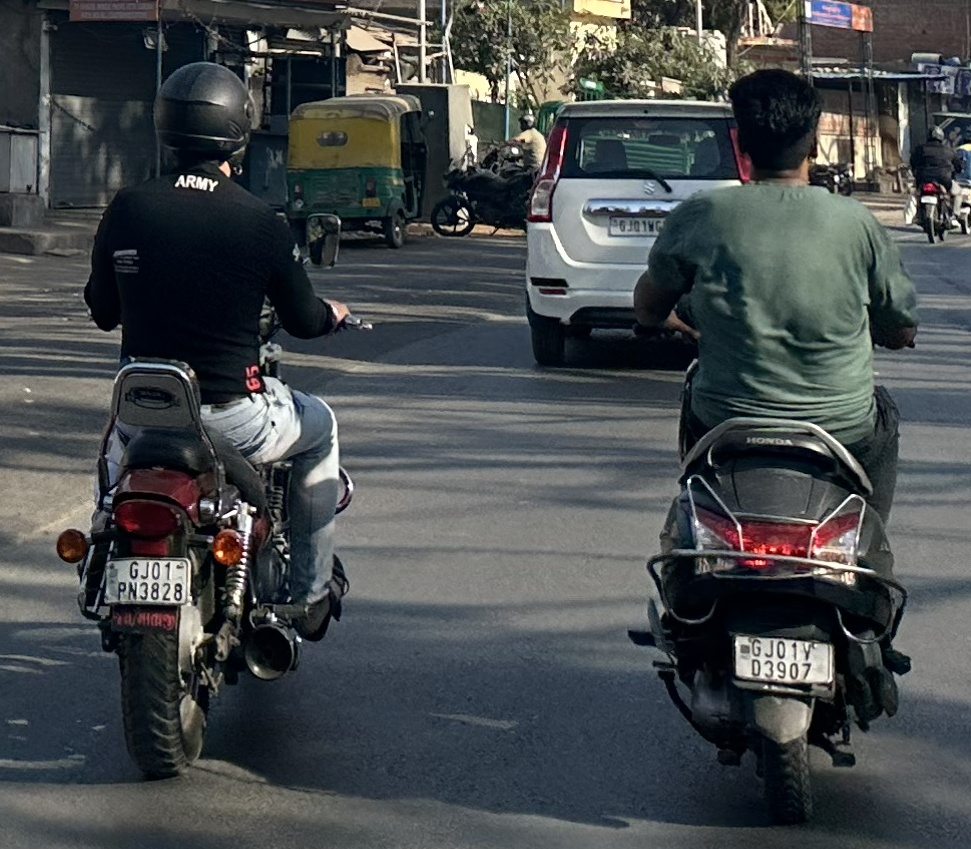BikeWithRider: (597, 50, 950, 836), (36, 42, 391, 776), (904, 113, 963, 237)
Helmet: (145, 50, 256, 176)
NoHelmet: (714, 57, 834, 189)
